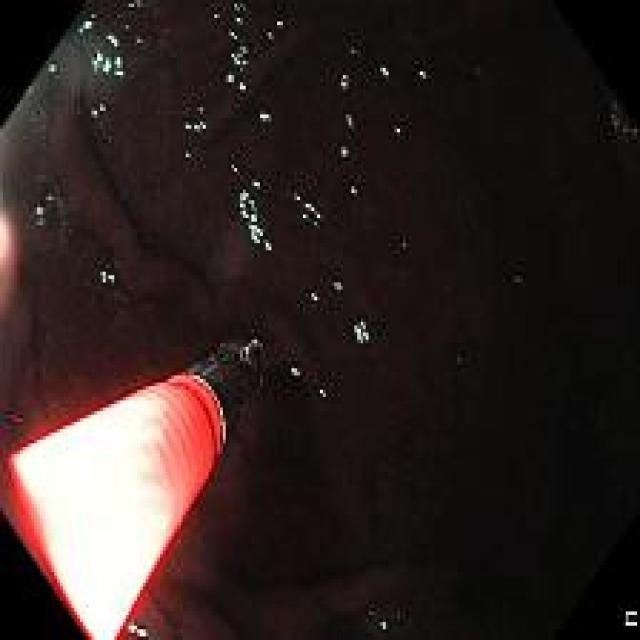contrast: (312, 4, 634, 630)
instrument: (4, 338, 270, 640)
saturation: (14, 390, 186, 637), (626, 612, 639, 626)
specularity: (240, 192, 272, 250), (92, 51, 125, 77), (231, 49, 249, 71), (78, 15, 96, 34), (303, 203, 321, 220), (357, 323, 370, 345), (182, 123, 208, 133), (129, 626, 147, 637), (101, 273, 115, 285), (93, 104, 106, 116), (36, 206, 45, 217), (107, 37, 118, 46), (341, 76, 349, 88), (291, 369, 301, 378), (253, 180, 262, 189), (381, 68, 390, 77), (227, 75, 235, 84), (348, 116, 354, 128), (333, 284, 343, 291), (341, 148, 348, 158), (128, 4, 145, 8), (296, 196, 303, 204), (351, 187, 357, 196), (419, 72, 428, 78), (302, 214, 309, 221), (229, 32, 237, 38), (184, 153, 192, 159), (232, 166, 238, 174), (236, 19, 243, 25), (382, 624, 388, 630), (313, 295, 319, 301), (277, 21, 283, 27), (321, 392, 328, 397), (213, 14, 220, 19), (267, 34, 274, 39), (241, 85, 247, 90), (199, 109, 205, 114), (314, 223, 319, 229), (395, 129, 401, 134), (235, 6, 240, 11), (50, 68, 56, 72), (137, 39, 143, 43), (242, 7, 247, 11), (352, 51, 357, 55)
